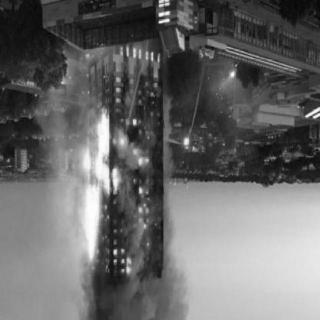Fire: (79, 96, 155, 277)
Smoke: (83, 260, 189, 318)
